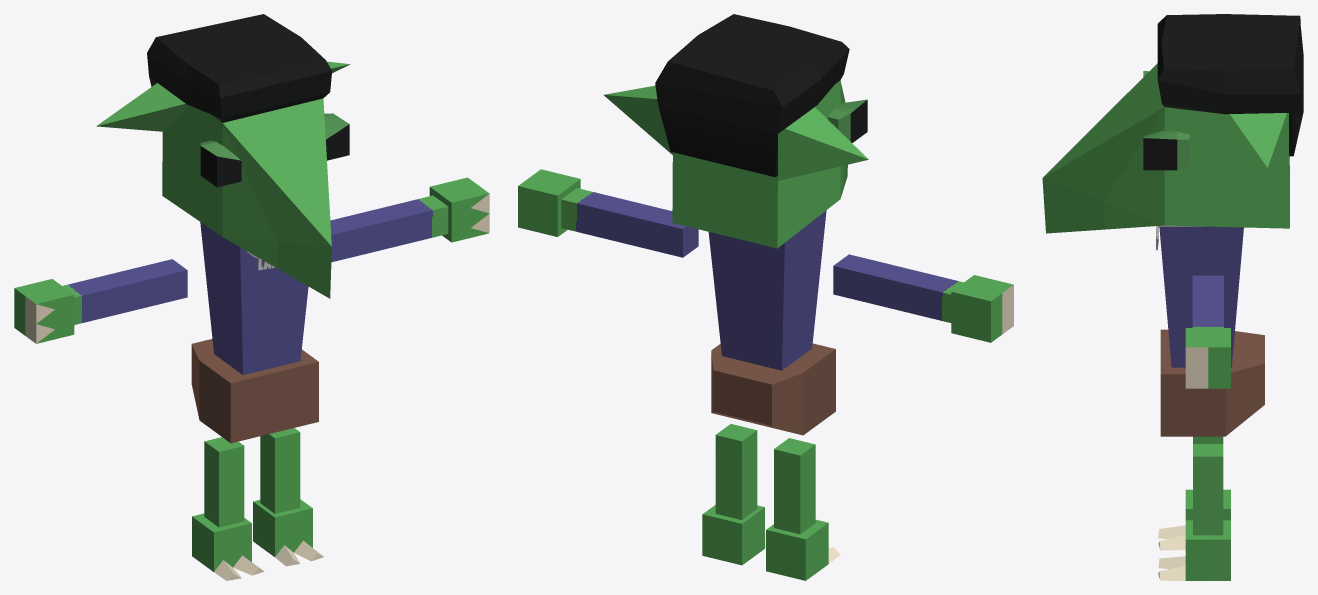
Rendered from Larry.fbx.
3 views of the same model, side by side, from view 1: azimuth 30°, elevation 25°; view 2: azimuth 150°, elevation 25°; view 3: azimuth 270°, elevation 25° (orthographic). The views are drawn at different scales.
Visible parts, largest first — view 1: Head, Torso, Hip, Arm_L, Arm_R, Leg_R, Hand_R, Leg_L, Foot_R, Foot_L, Hand_L; view 2: Head, Torso, Hip, Arm_L, Arm_R, Leg_L, Leg_R, Hand_R, Foot_R, Foot_L, Hand_L; view 3: Head, Hip, Torso, Foot_L, Leg_L, Hand_L, Arm_L, Foot_R.
Part boxes in pixels (x1,y1,x2,y2): Head: (96, 14, 350, 298); Torso: (200, 222, 308, 374); Hip: (191, 339, 318, 443); Arm_L: (330, 195, 448, 262); Arm_R: (62, 259, 187, 324); Leg_R: (204, 437, 244, 527); Hand_R: (14, 279, 74, 343); Leg_L: (260, 428, 300, 513); Foot_R: (192, 513, 264, 580); Foot_L: (253, 499, 323, 566); Hand_L: (429, 177, 489, 242); Head: (603, 14, 868, 248); Torso: (708, 210, 826, 370); Hip: (711, 343, 835, 435); Arm_L: (561, 188, 698, 257); Arm_R: (833, 254, 963, 322); Leg_L: (715, 424, 757, 519); Leg_R: (774, 438, 815, 534); Hand_R: (951, 275, 1013, 342); Foot_R: (766, 519, 840, 580); Foot_L: (702, 505, 765, 565); Hand_L: (518, 169, 580, 236); Head: (1042, 14, 1303, 233); Hip: (1160, 329, 1264, 436); Torso: (1159, 226, 1243, 367); Foot_L: (1158, 520, 1230, 580); Leg_L: (1193, 444, 1223, 535); Hand_L: (1185, 328, 1230, 388); Arm_L: (1192, 275, 1223, 327); Foot_R: (1158, 489, 1230, 550).
Size of the model in its own units: 11.92 by 12.44 by 5.73.
